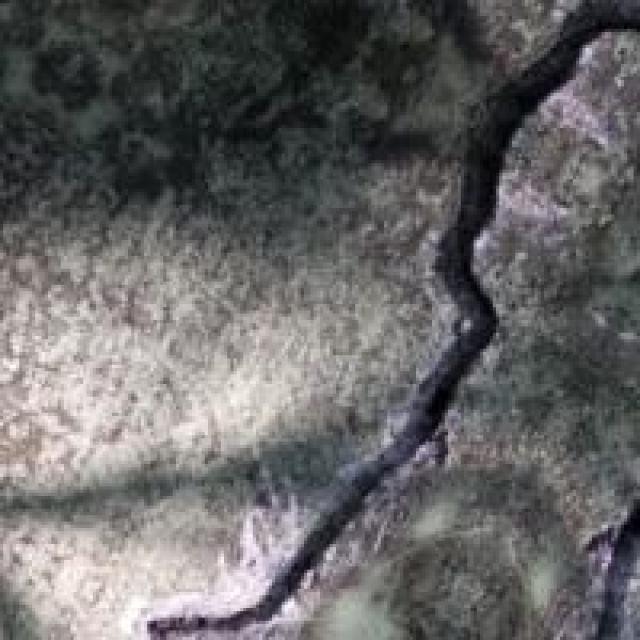Crack: (160, 0, 634, 637)
